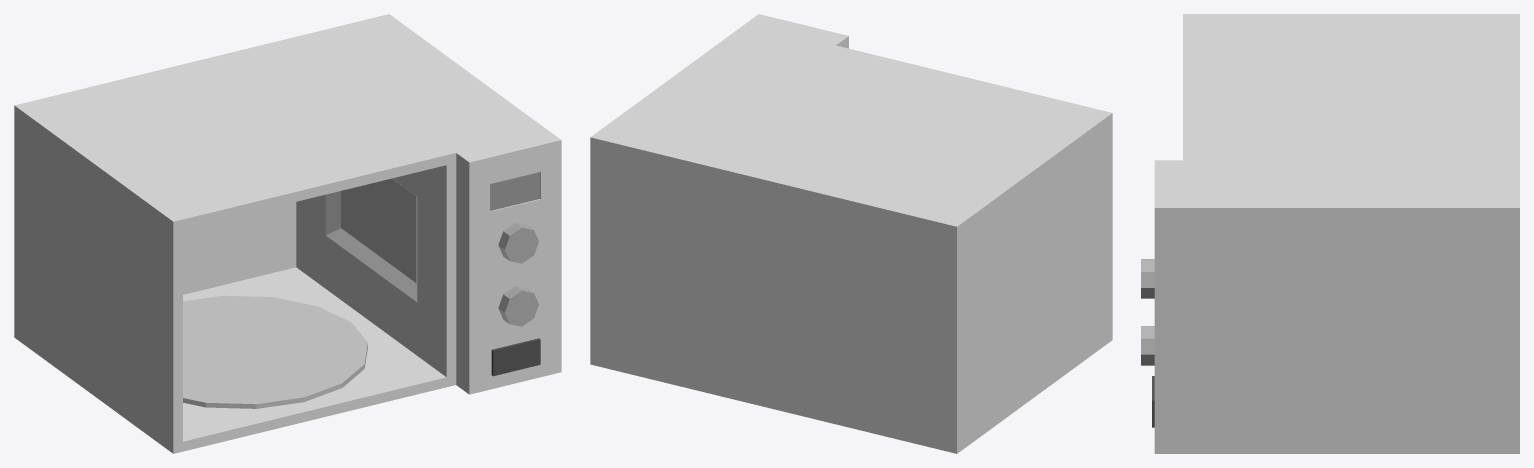
The model's file is Microwave_C1_01.fbx.
3 renders of one model, left to right at view 1: azimuth 30°, elevation 25°; view 2: azimuth 150°, elevation 25°; view 3: azimuth 270°, elevation 25°, orthographic. The views are drawn at different scales.
Parts seen in each view (by area): view 1: Microwave_C1_01; view 2: Microwave_C1_01; view 3: Microwave_C1_01.
Boxes of the visible parts, x1,y1,x2,y2 form: Microwave_C1_01: [14, 14, 561, 453]; Microwave_C1_01: [590, 14, 1112, 453]; Microwave_C1_01: [1141, 14, 1519, 453].
Size of the model in its own units: 49 by 29 by 40.47.
